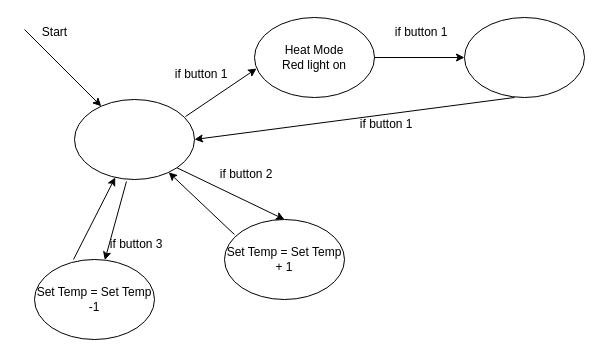
This 602x357 diagram has some shape labels left out. Here are the shapes that lost their labels. From the top down, the centre of each, then its label:
the point at 524,57: Cool Mode Blue Light on
the point at 134,139: Lights off Display temp Set Temp = 72
